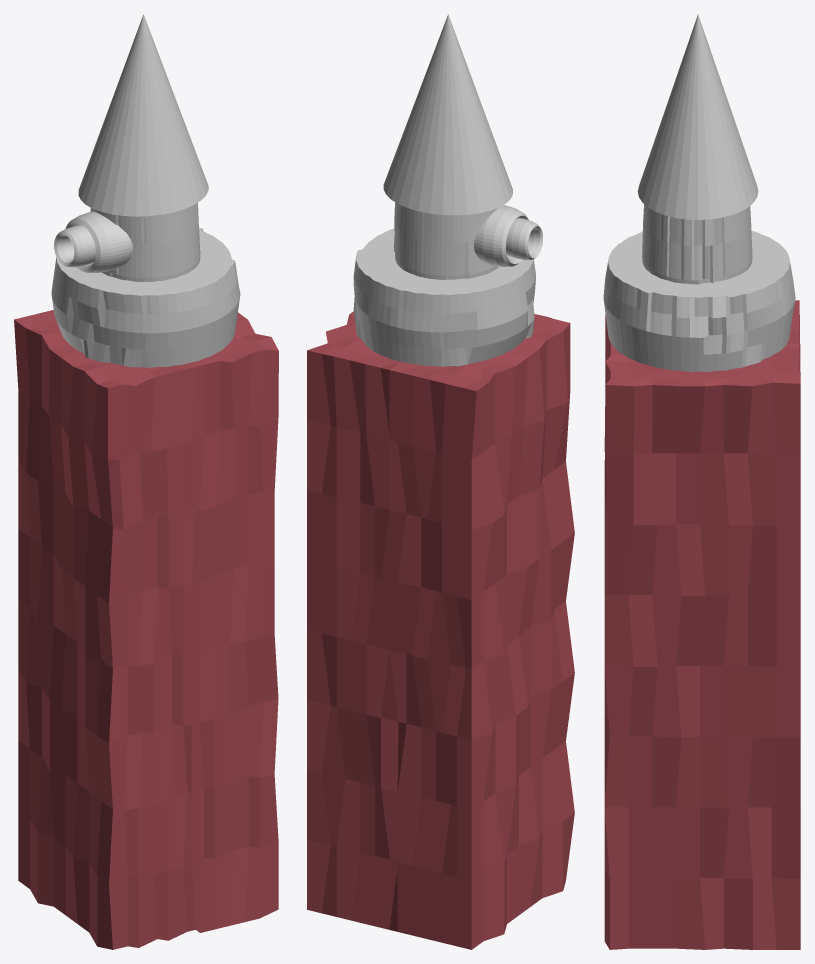
File: tower1.fbx
The picture shows the model from 3 angles, left to right: view 1: azimuth 30°, elevation 25°; view 2: azimuth 150°, elevation 25°; view 3: azimuth 270°, elevation 25°; orthographic projection.
Visible parts, largest first — view 1: Cube; view 2: Cube; view 3: Cube.
Boxes of the visible parts, left/top/right/bottom form: Cube: left=14, top=14, right=278, bottom=949; Cube: left=307, top=14, right=574, bottom=949; Cube: left=603, top=14, right=800, bottom=949.
Bounding box in the file's own units: 216 × 1006 × 201.
